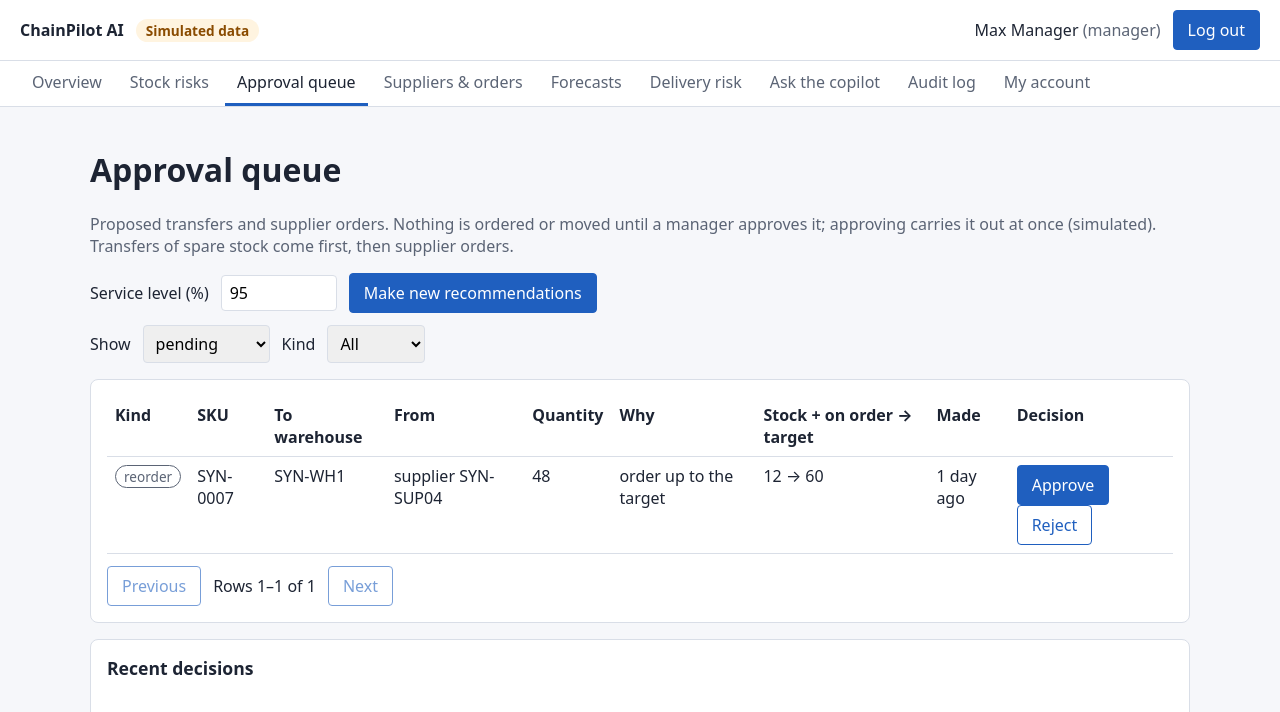
approval queue › lets a manager approve after confirming, with an Idempotency-Key
Click the button with aria-label "Approve order 48 × SYN-0007" at (1063, 485), box [1017, 465, 1109, 505]
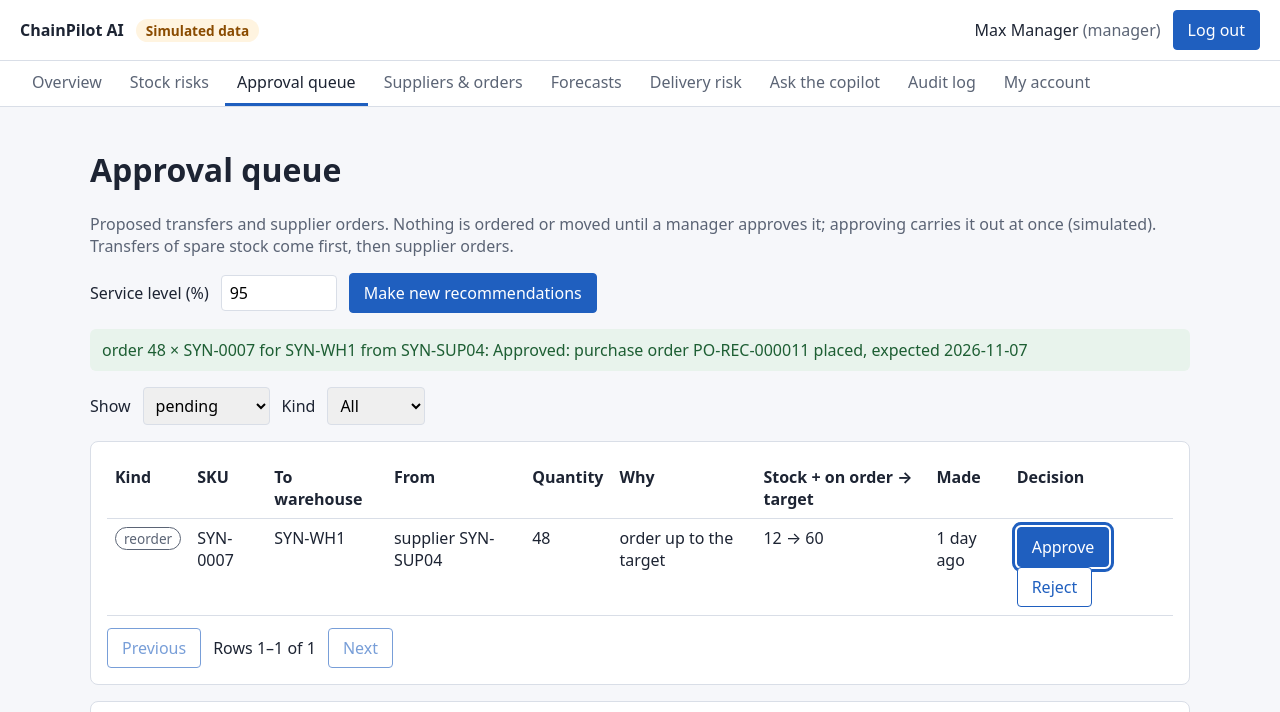
Check: the message shows "purchase order PO-REC-000011 placed, expected 2026-11-07", box [102, 339, 1028, 361]
